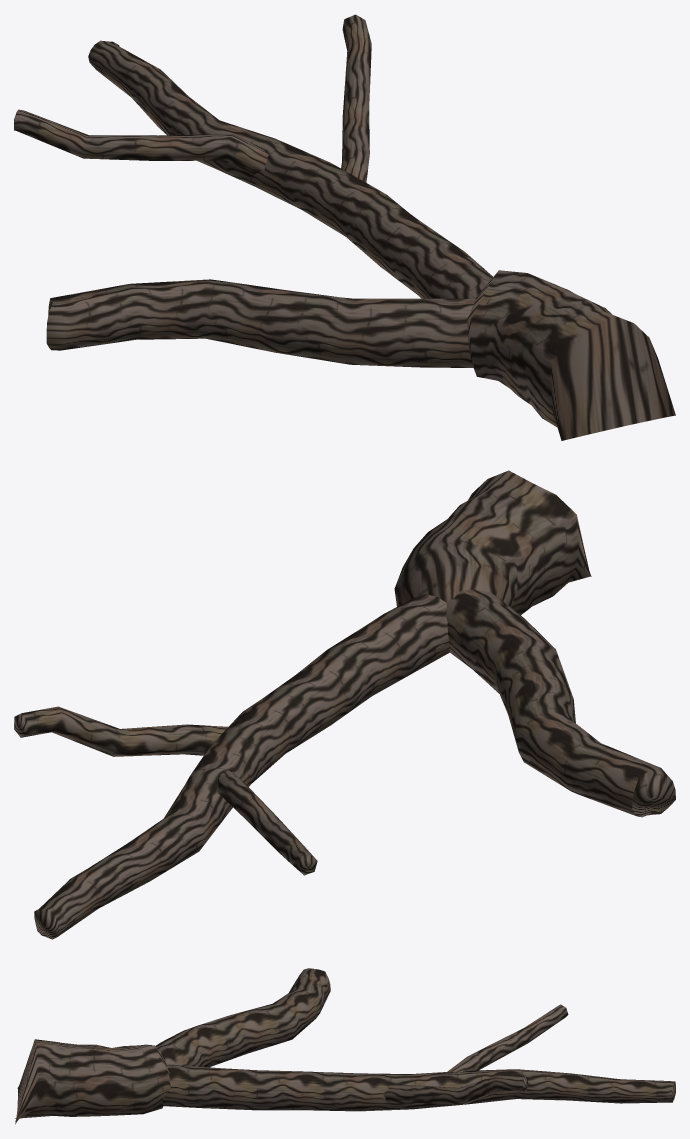
File: fallen-a.lod0.glb
3 views of the same model, one above another, from view 1: azimuth 30°, elevation 25°; view 2: azimuth 150°, elevation 25°; view 3: azimuth 270°, elevation 25° (orthographic). The views are drawn at different scales.
Parts seen in each view (by area): view 1: bark; view 2: bark; view 3: bark.
Part boxes in pixels (<box>): bark: <box>14,14,675,440</box>; bark: <box>14,470,675,939</box>; bark: <box>15,968,675,1124</box>.
Bounding box in the file's own units: 3.03 × 0.6192 × 5.42.
1 material, 1 textured.
